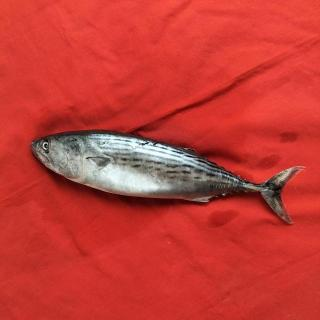Ikan: (26, 122, 311, 240)
